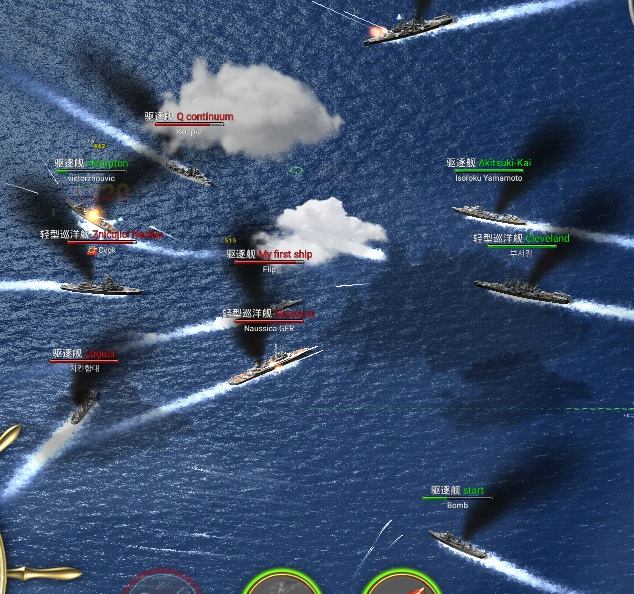ship: (228, 343, 325, 387), (365, 12, 454, 50), (471, 275, 576, 306), (451, 199, 529, 228), (426, 527, 489, 559), (157, 152, 213, 187), (57, 276, 141, 298), (66, 195, 118, 230), (71, 386, 100, 424)
